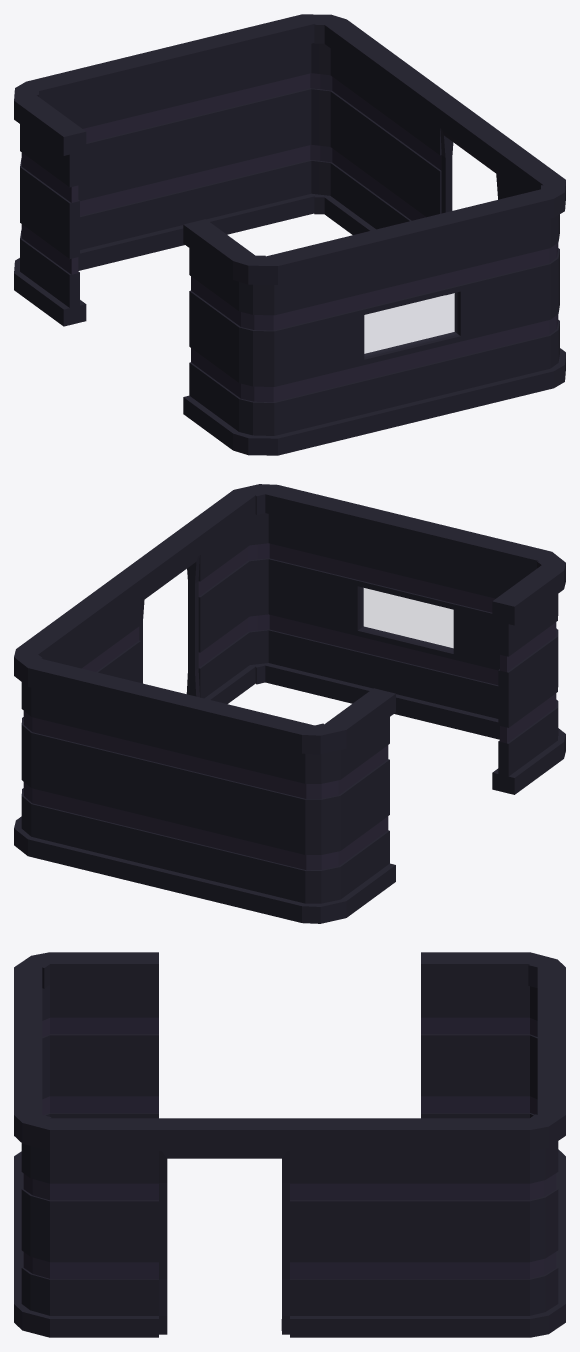
Rendered from Walls.fbx.
3 renders of one model, top to bottom at view 1: azimuth 30°, elevation 25°; view 2: azimuth 150°, elevation 25°; view 3: azimuth 270°, elevation 25°, orthographic. The views are drawn at different scales.
Parts seen in each view (by area): view 1: Wall_Corner_UL, Wall_Corner_DR, Wall_Corner_UR, Wall_Corner_DL, Wall_Window_2M, Wall_Vertical_2M, Wall_Horizontal_2M, Wall_Doorway_2M; view 2: Wall_Corner_UR, Wall_Corner_DL, Wall_Corner_UL, Wall_Corner_DR, Wall_Vertical_2M, Wall_Window_2M, Wall_Horizontal_2M, Wall_Doorway_2M; view 3: Wall_Corner_DL, Wall_Corner_DR, Wall_Horizontal_2M, Wall_Corner_UR, Wall_Corner_UL, Wall_Doorway_2M, Wall_Vertical_2M, Wall_Window_2M.
Part boxes in pixels (box(x1,y1,x2,y2)): Wall_Corner_UL: box(183, 219, 364, 455); Wall_Corner_DR: box(216, 14, 396, 234); Wall_Corner_UR: box(14, 60, 125, 326); Wall_Corner_DL: box(455, 143, 565, 409); Wall_Window_2M: box(351, 210, 467, 434); Wall_Vertical_2M: box(112, 35, 228, 259); Wall_Horizontal_2M: box(374, 56, 455, 228); Wall_Doorway_2M: box(434, 99, 515, 295); Wall_Corner_UR: box(216, 688, 395, 923); Wall_Corner_DL: box(184, 484, 363, 703); Wall_Corner_UL: box(453, 531, 565, 794); Wall_Corner_DR: box(14, 613, 125, 876); Wall_Vertical_2M: box(113, 679, 228, 901); Wall_Window_2M: box(351, 506, 465, 728); Wall_Horizontal_2M: box(66, 569, 146, 682); Wall_Doorway_2M: box(125, 526, 206, 697); Wall_Corner_DL: box(14, 1069, 158, 1337); Wall_Corner_DR: box(421, 1069, 565, 1337); Wall_Horizontal_2M: box(290, 1118, 420, 1337); Wall_Corner_UR: box(421, 952, 565, 1202); Wall_Corner_UL: box(14, 952, 158, 1202); Wall_Doorway_2M: box(159, 1118, 289, 1334); Wall_Vertical_2M: box(537, 1013, 565, 1257); Wall_Window_2M: box(14, 1013, 42, 1257).
Bounding box in the file's own units: 6.43 × 3.5 × 8.43.
